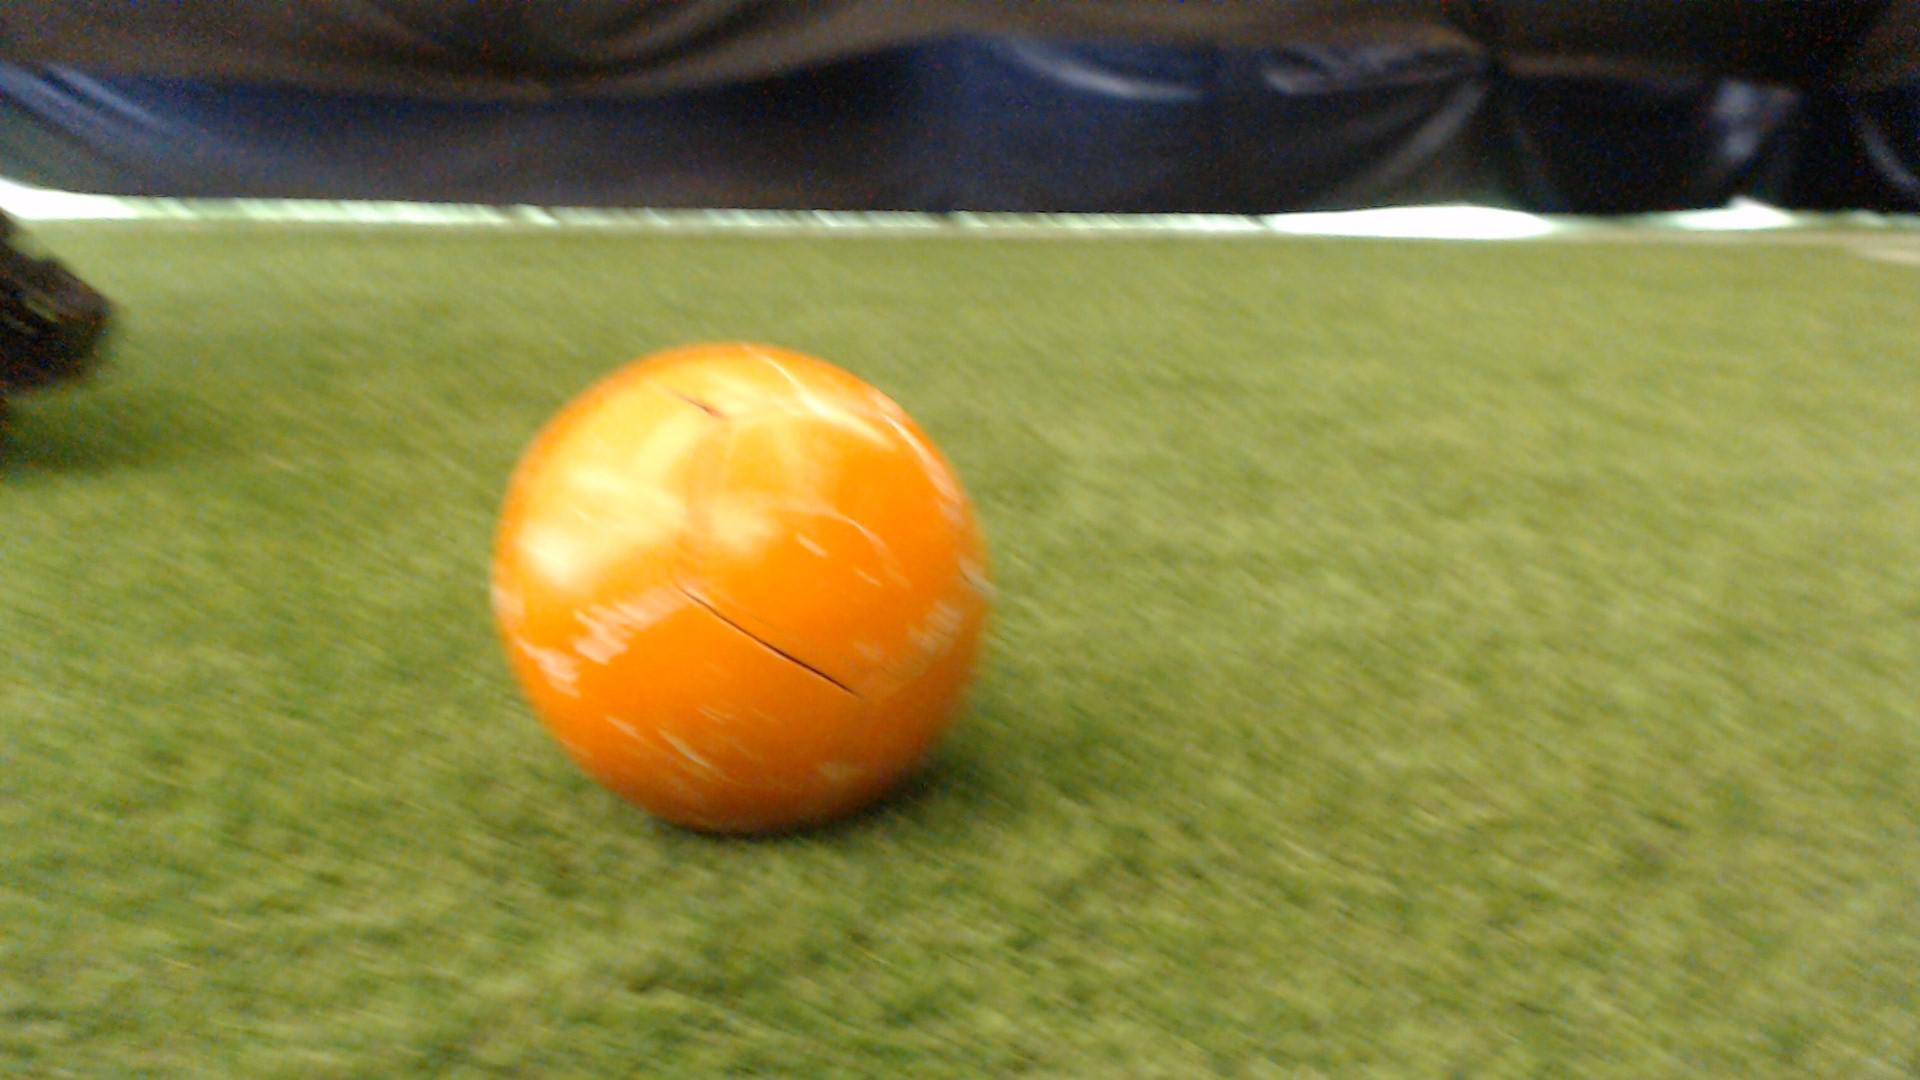bola: (475, 335, 1017, 845)
